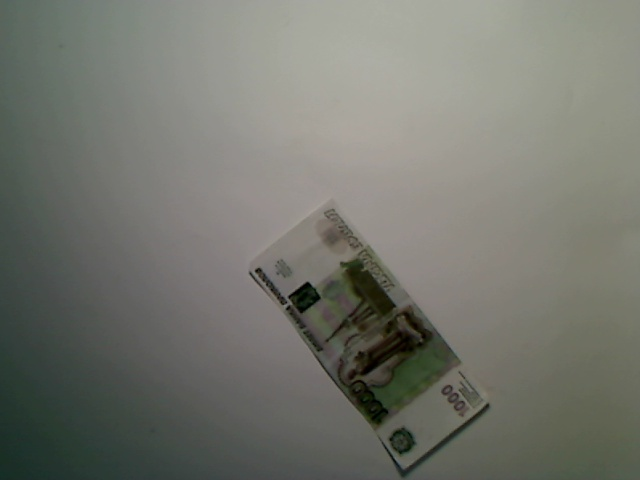banknotes: (245, 193, 497, 479)
